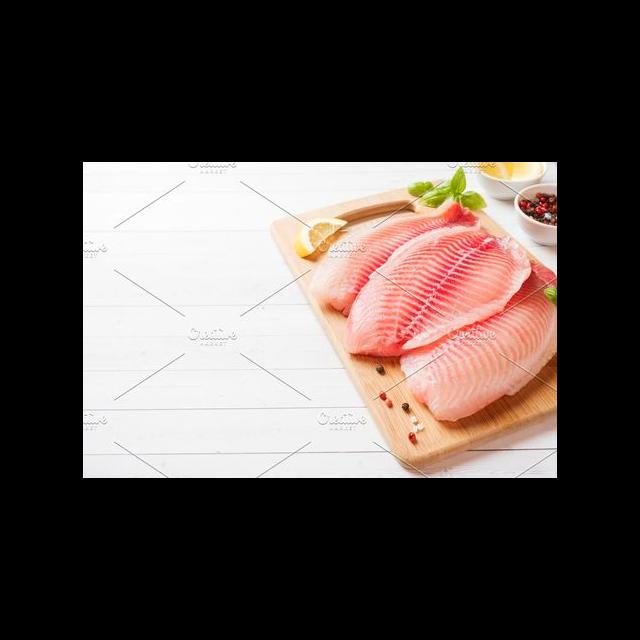fish: (339, 221, 540, 361)
